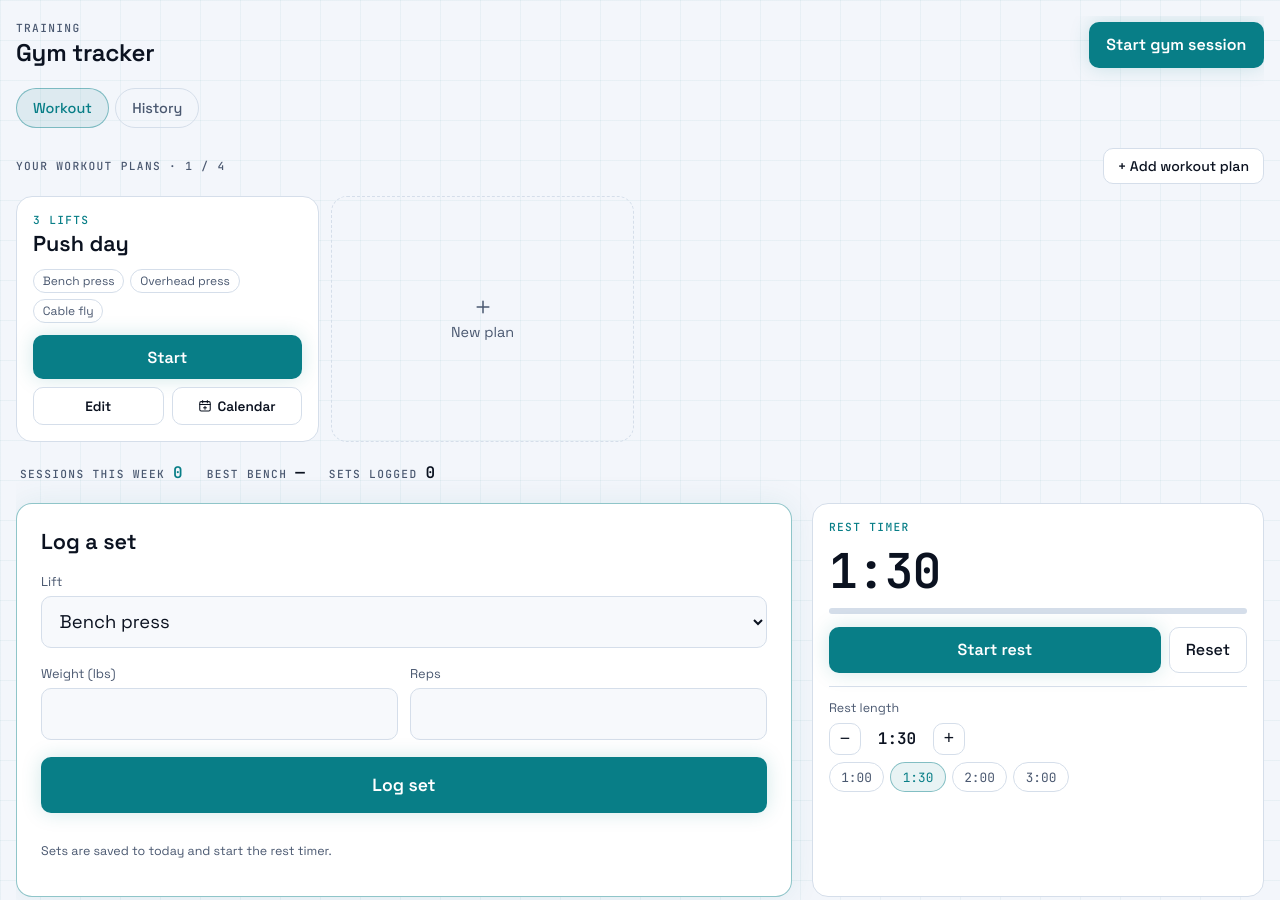
Test: Your workout plans › refuses a blank name, and a name you already have
Click the button "+ Add workout plan" at (1183, 166), box [1103, 148, 1264, 184]
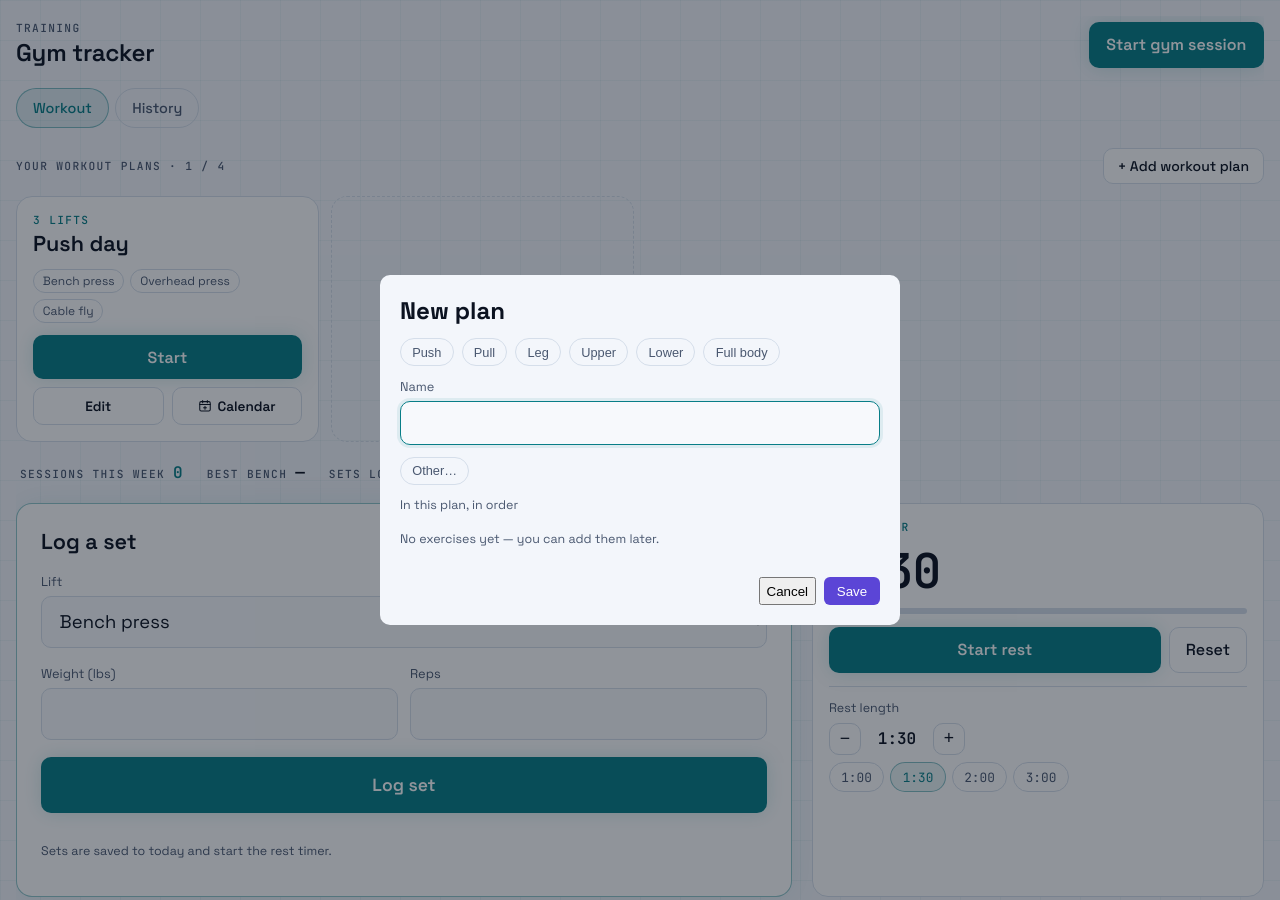
Submit the dialog, box [380, 275, 900, 625]
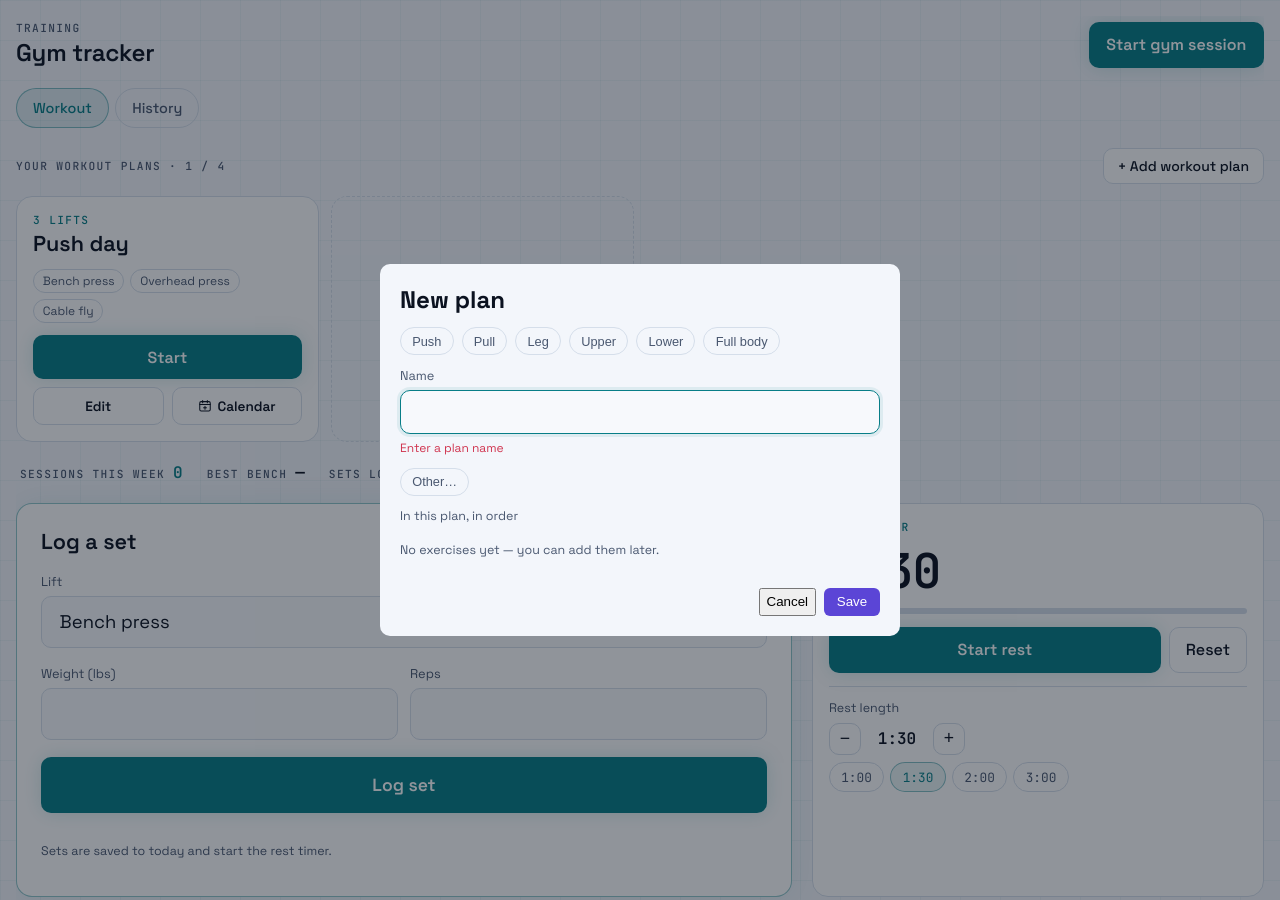
Now the message "Enter a plan name" is shown, box [400, 440, 504, 456]
Click the button "Push" at (427, 341), box [400, 327, 454, 356]
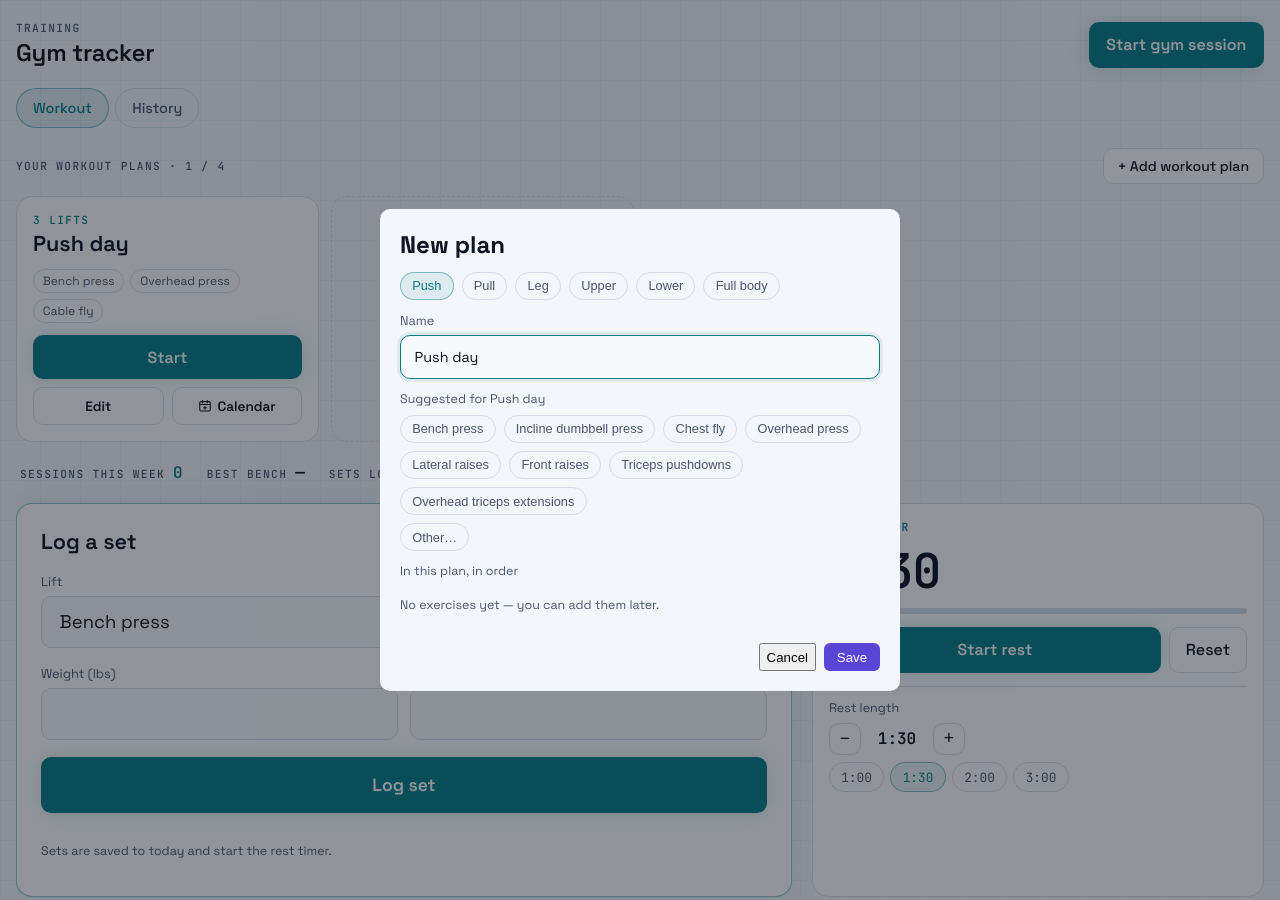
Submit the dialog, box [380, 209, 900, 691]
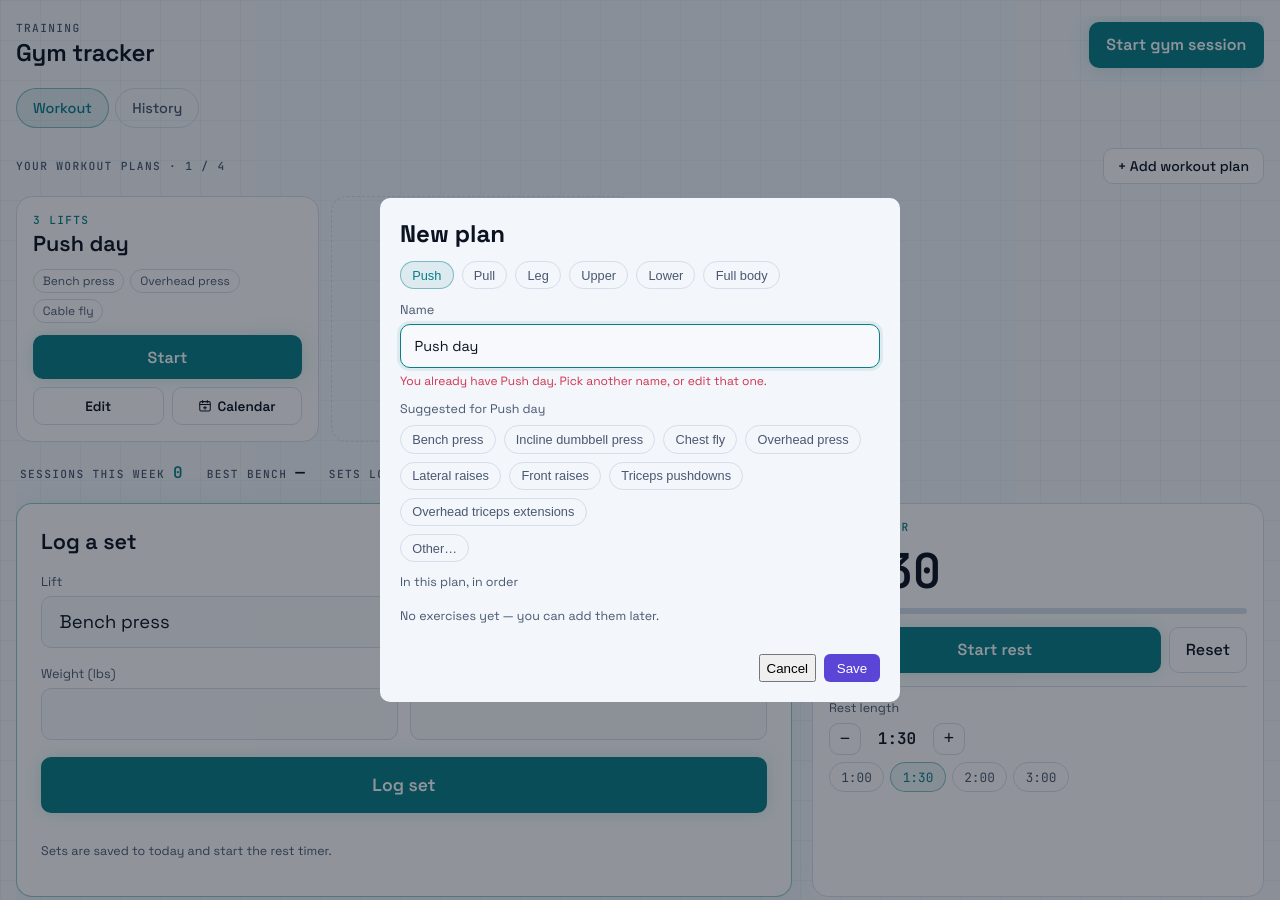
Now the message "You already have Push day. Pick another name, or edit that one." is shown, box [400, 373, 767, 389]
